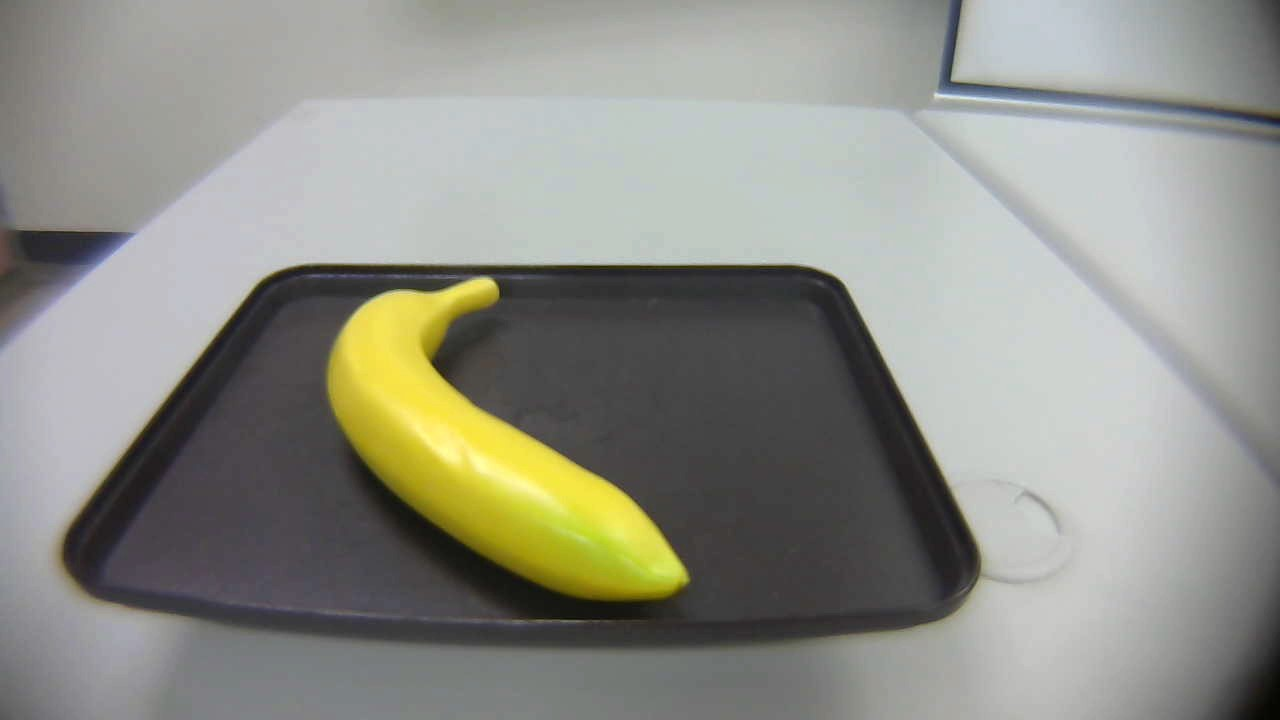banana: (317, 261, 712, 600)
